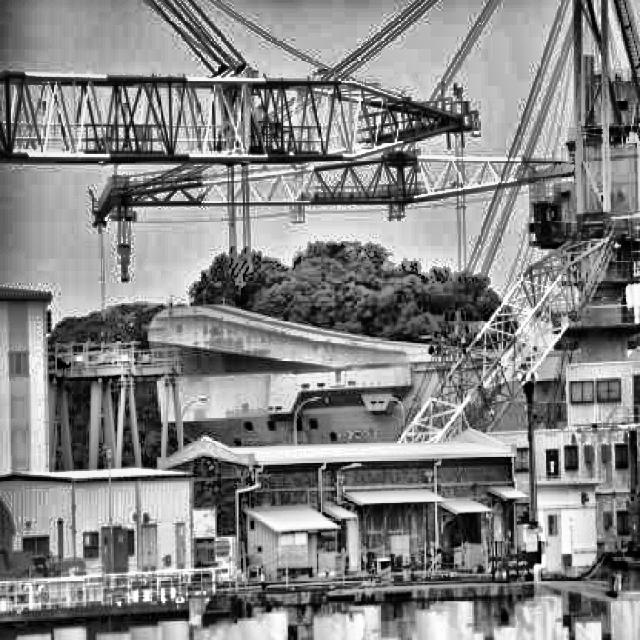F35: (418, 311, 496, 347)
